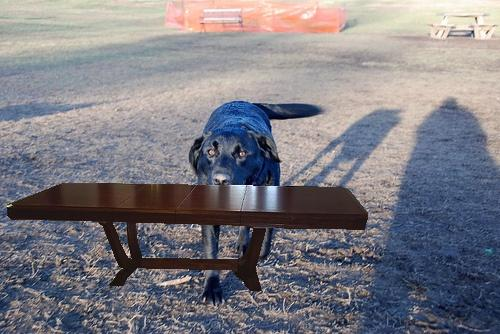tampered: (8, 184, 368, 291)
